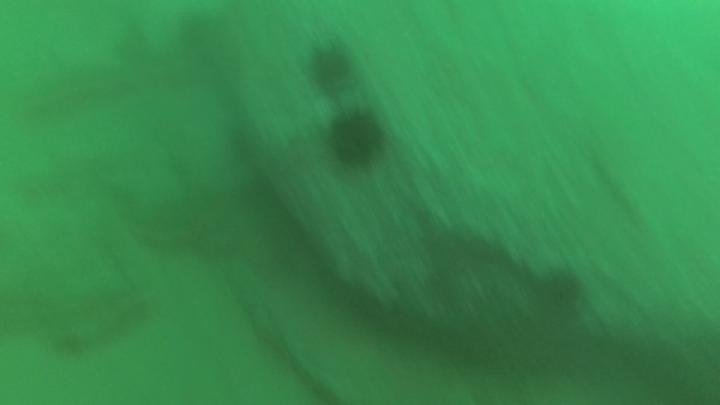echinus: (323, 103, 390, 173), (531, 265, 586, 320), (305, 39, 357, 96)
